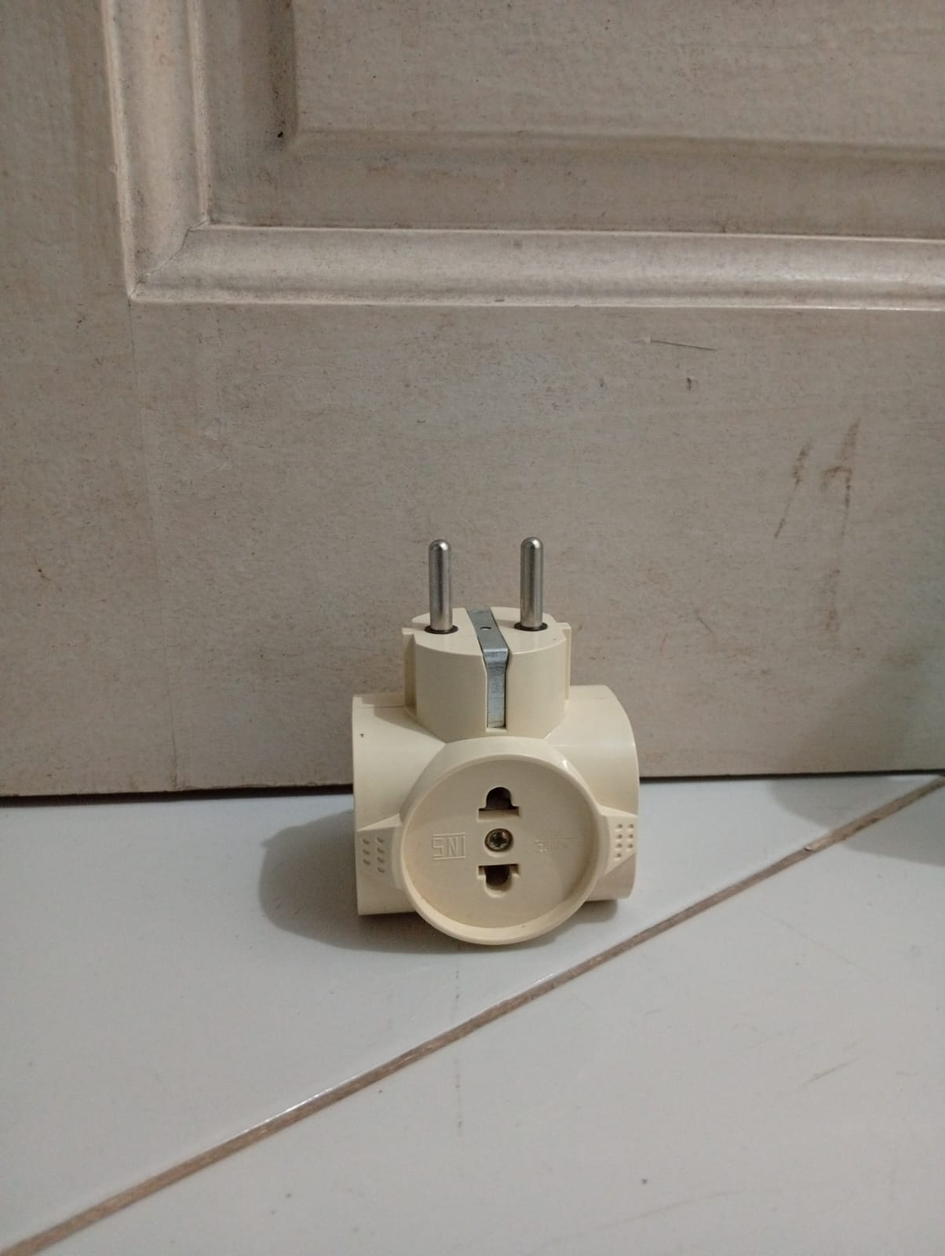Colokan: (268, 506, 709, 965)
